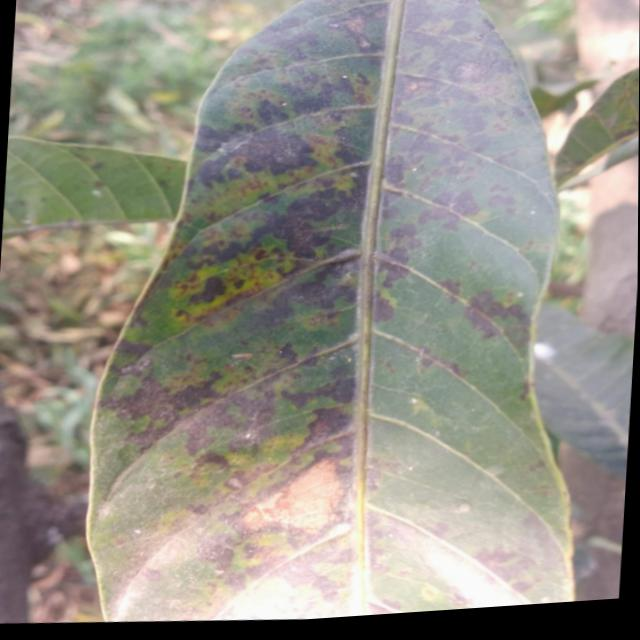Anthracnose: (236, 450, 364, 568), (232, 120, 315, 183), (172, 393, 247, 462), (293, 399, 355, 449), (466, 285, 533, 331), (247, 288, 300, 341), (287, 76, 354, 117), (271, 15, 322, 66), (282, 187, 341, 229), (191, 528, 239, 575), (253, 138, 306, 179), (430, 180, 483, 220), (291, 280, 356, 311), (185, 272, 229, 316), (458, 303, 501, 344), (251, 95, 288, 133), (371, 258, 409, 294), (193, 156, 232, 188), (417, 203, 460, 232), (193, 124, 231, 155), (269, 213, 308, 241), (380, 152, 409, 188), (333, 129, 360, 164), (319, 378, 354, 404), (115, 336, 151, 360), (385, 240, 413, 268), (387, 220, 417, 246), (378, 192, 401, 223), (195, 450, 229, 469), (504, 324, 528, 349), (275, 342, 299, 367), (372, 294, 393, 322), (437, 277, 461, 297), (389, 109, 413, 126), (185, 503, 209, 516), (488, 195, 514, 207), (226, 166, 242, 180), (232, 277, 247, 291), (143, 570, 162, 581)
